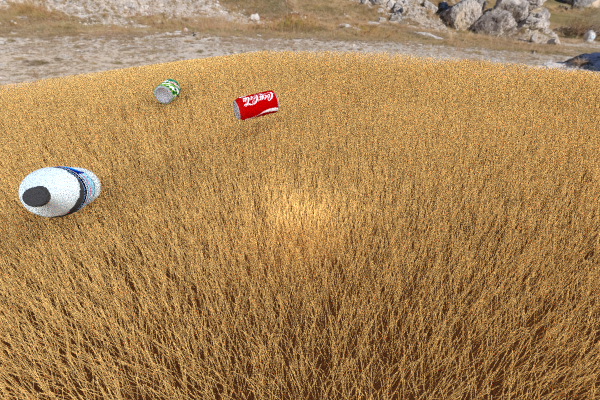bottle: (18, 166, 100, 217)
can: (232, 90, 278, 120), (153, 78, 180, 104)
